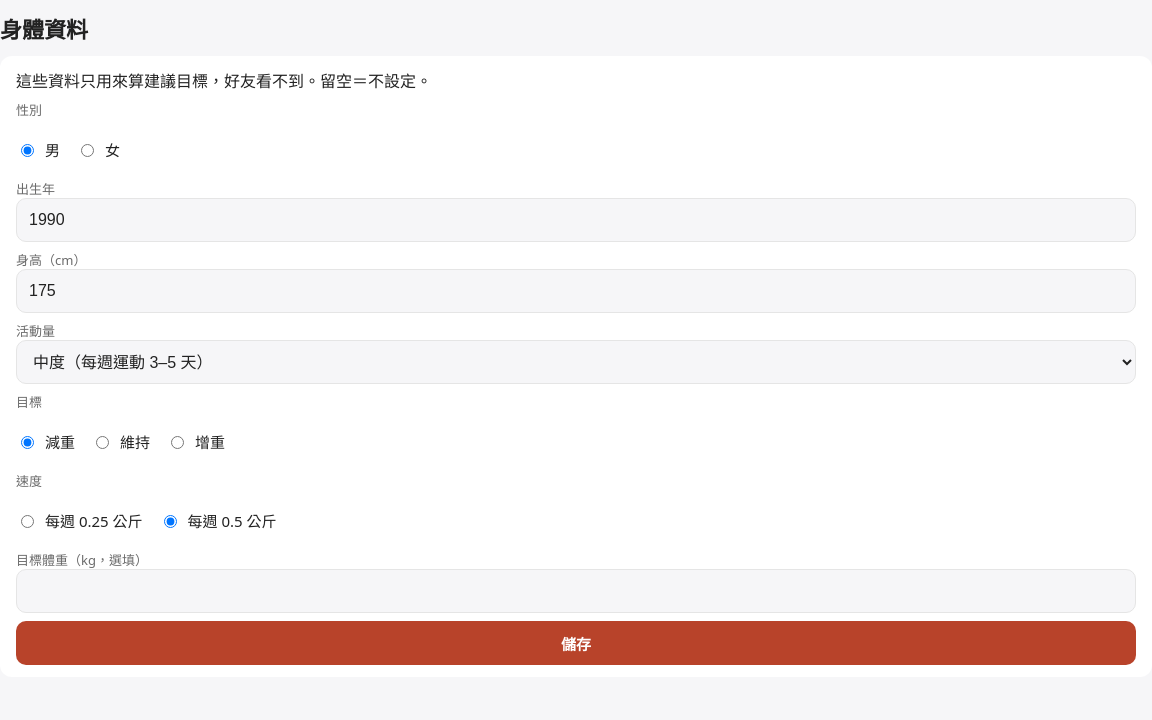
Test: /me/body › 其他錯誤：「儲存失敗，請再試一次」
Step 1. Click the button "儲存" → point(576, 643), box [16,621,1136,665]
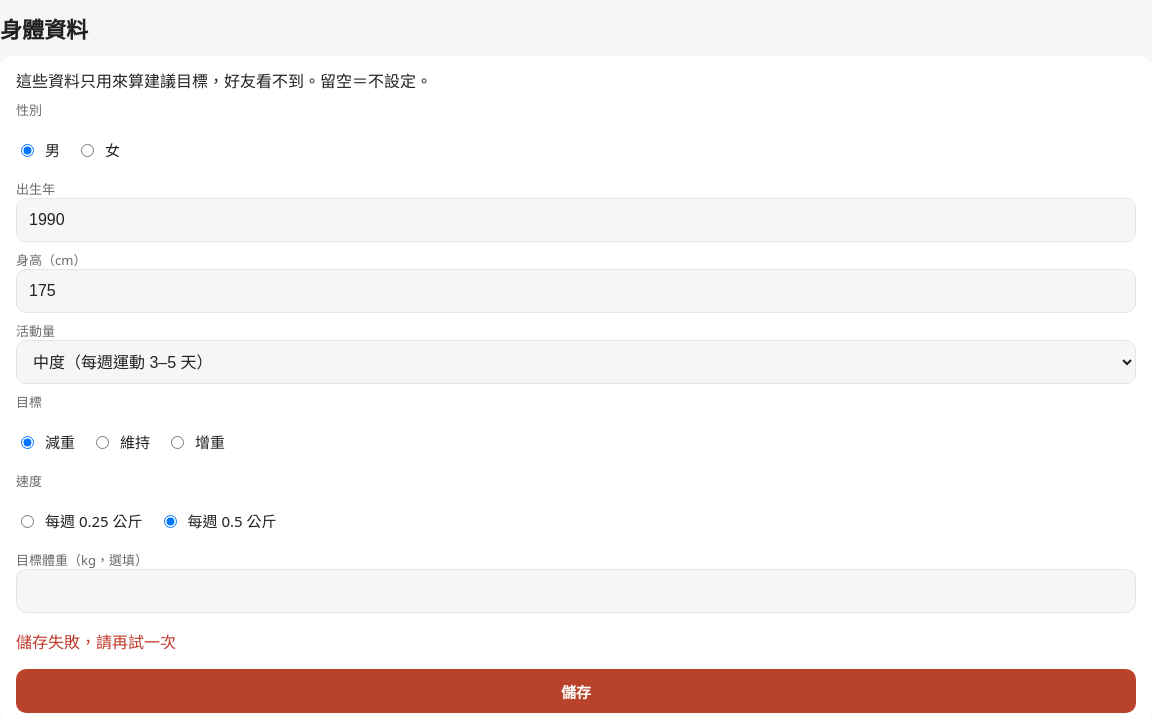
Check: the message reads "儲存失敗，請再試一次", box [16,631,176,653]
